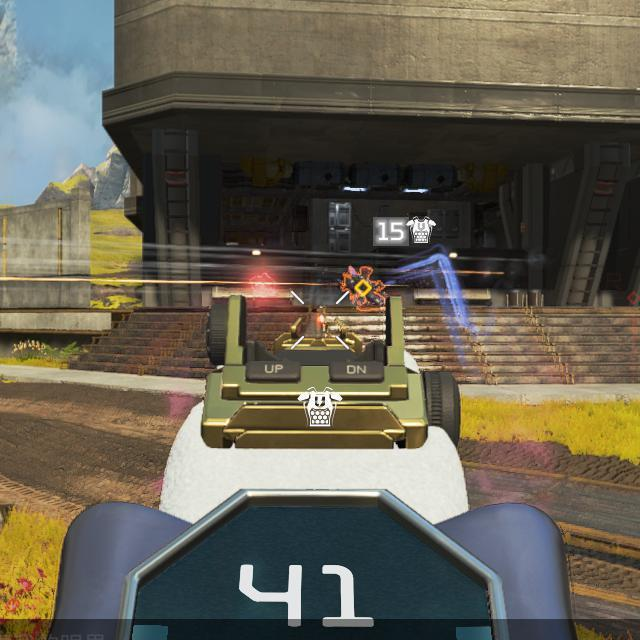avatar: (341, 264, 387, 312)
object: (353, 278, 374, 299)
